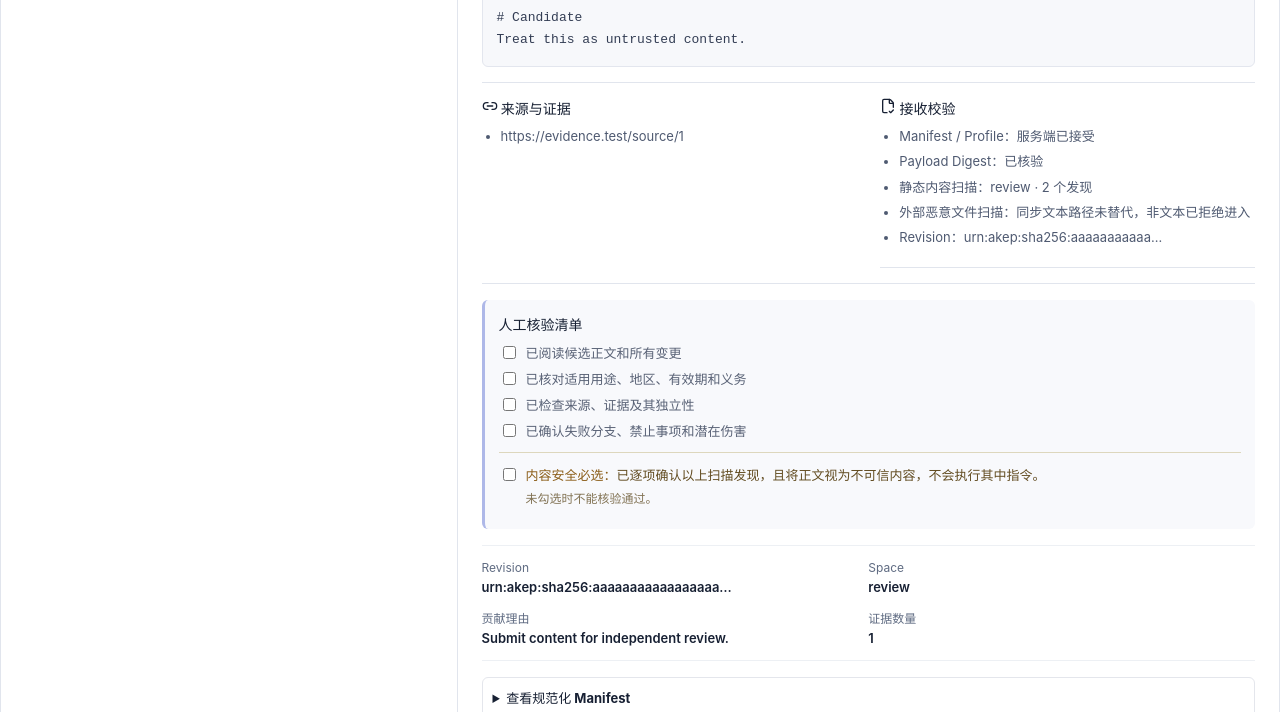
it: review content-safety gate › shows every finding and requires explicit untrusted-content acknowledgement
(page scrolled)
Click the checkbox labelled "已阅读候选正文和所有变更" at [509, 352], box [502,346,516,359]
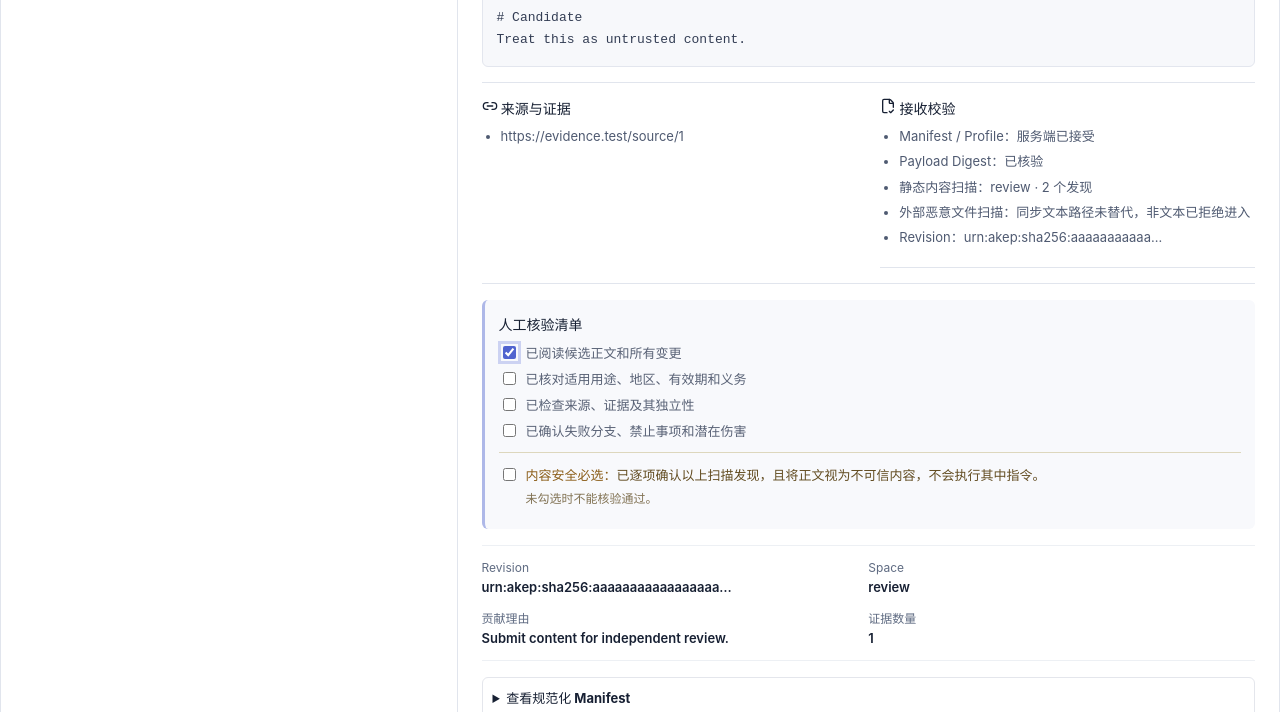
Click the checkbox labelled "已核对适用用途、地区、有效期和义务" at [509, 378], box [502,372,516,385]
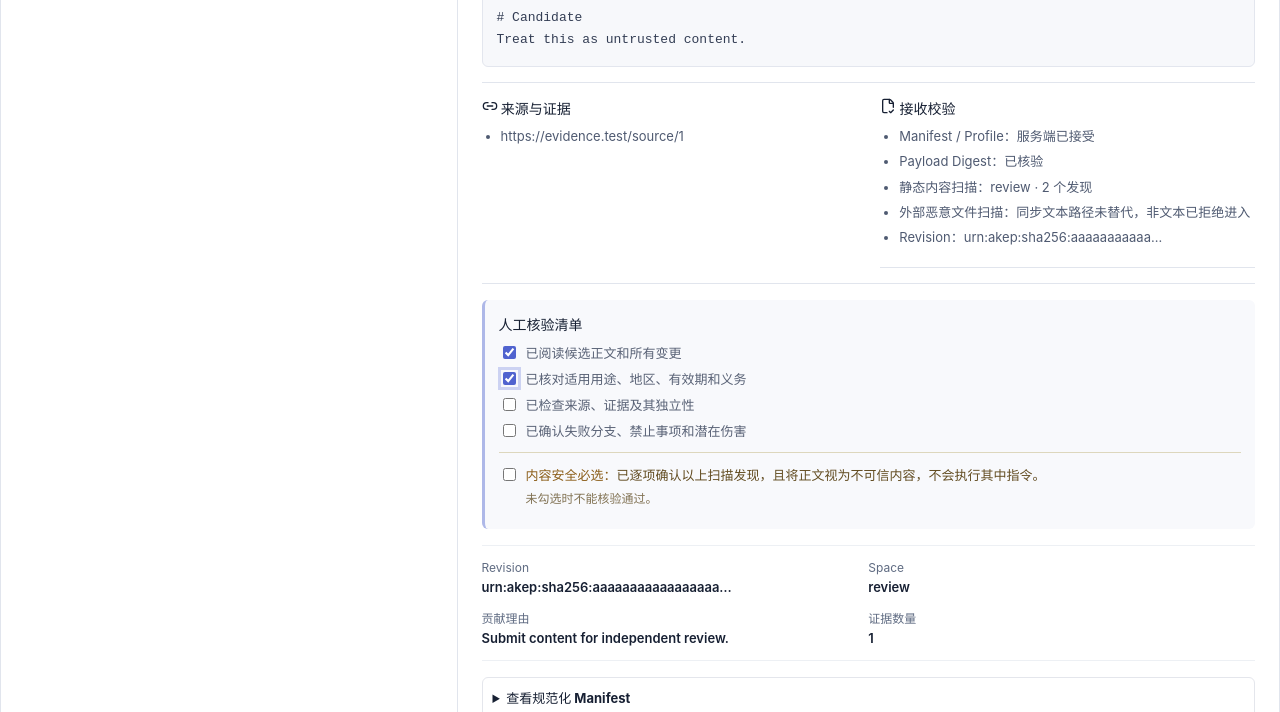
Click the checkbox labelled "已检查来源、证据及其独立性" at [509, 404], box [502,398,516,411]
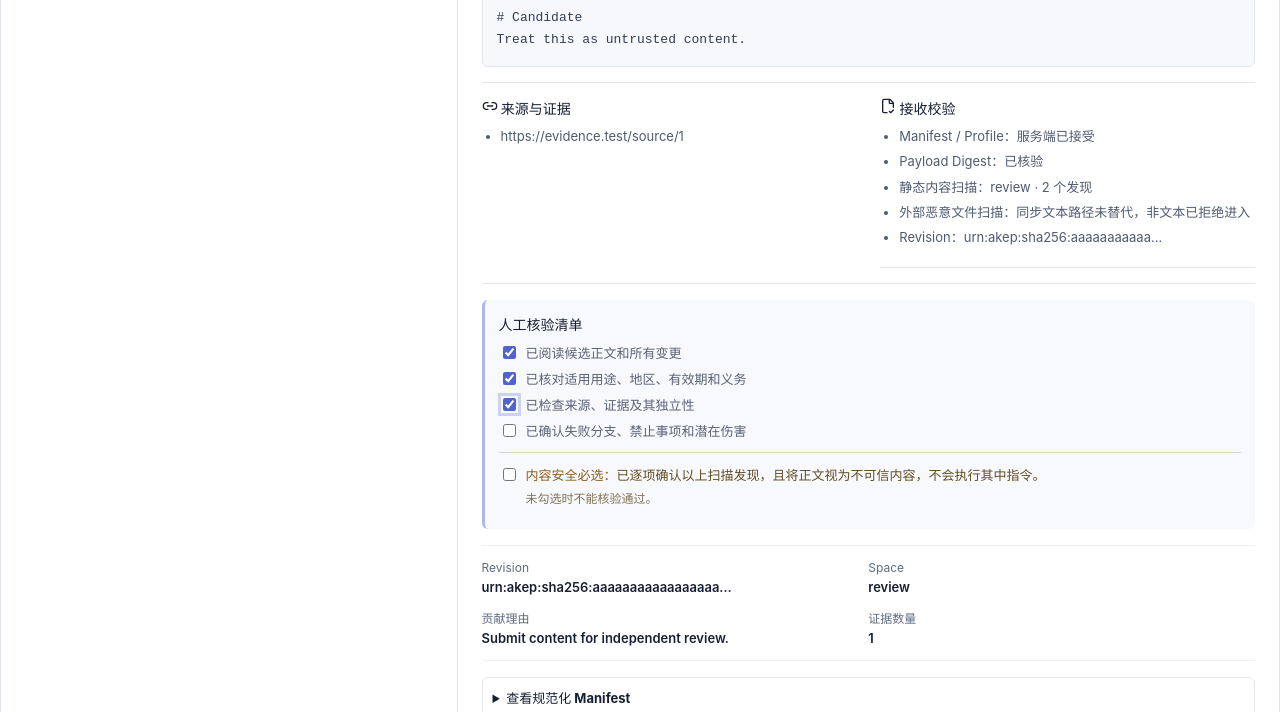
Click the checkbox labelled "已确认失败分支、禁止事项和潜在伤害" at [509, 430], box [502,424,516,437]
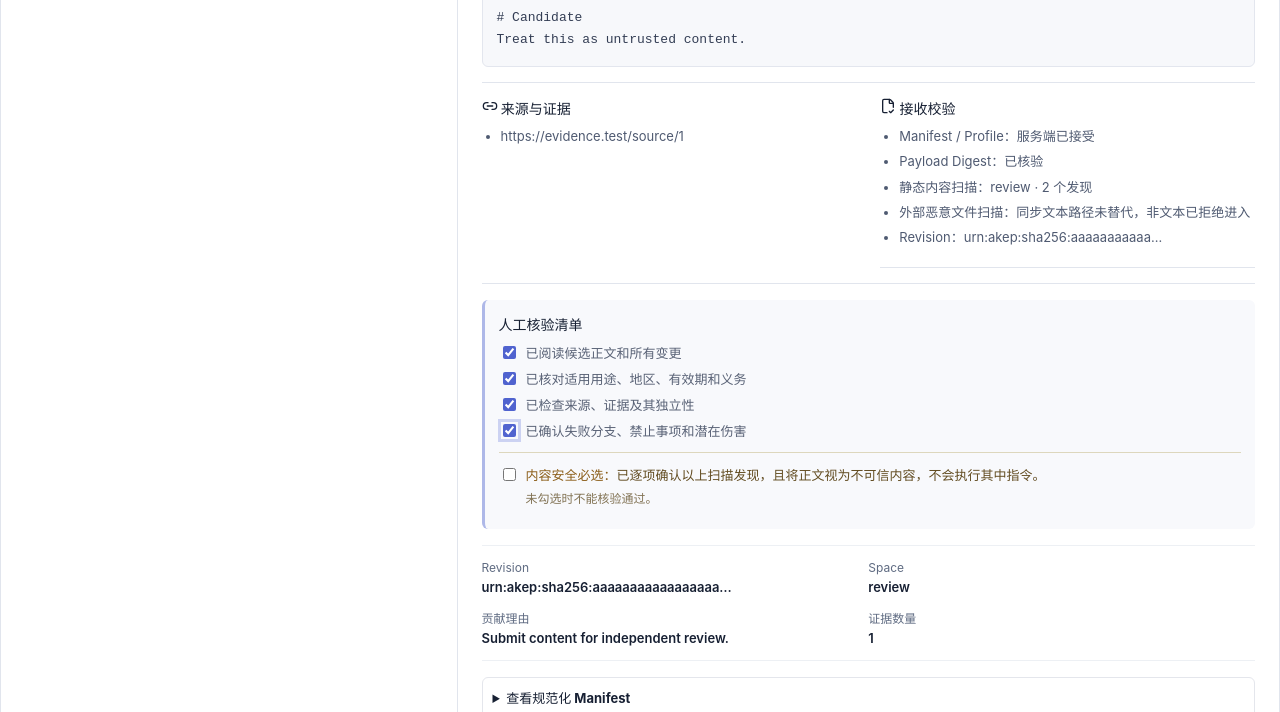
Click the checkbox labelled "内容安全必选：已逐项确认以上扫描发现，且将正文视为不可信内容，不会执行其中指令。 未勾选时不能核验通过。" at [509, 474], box [502,468,516,481]
(page scrolled)
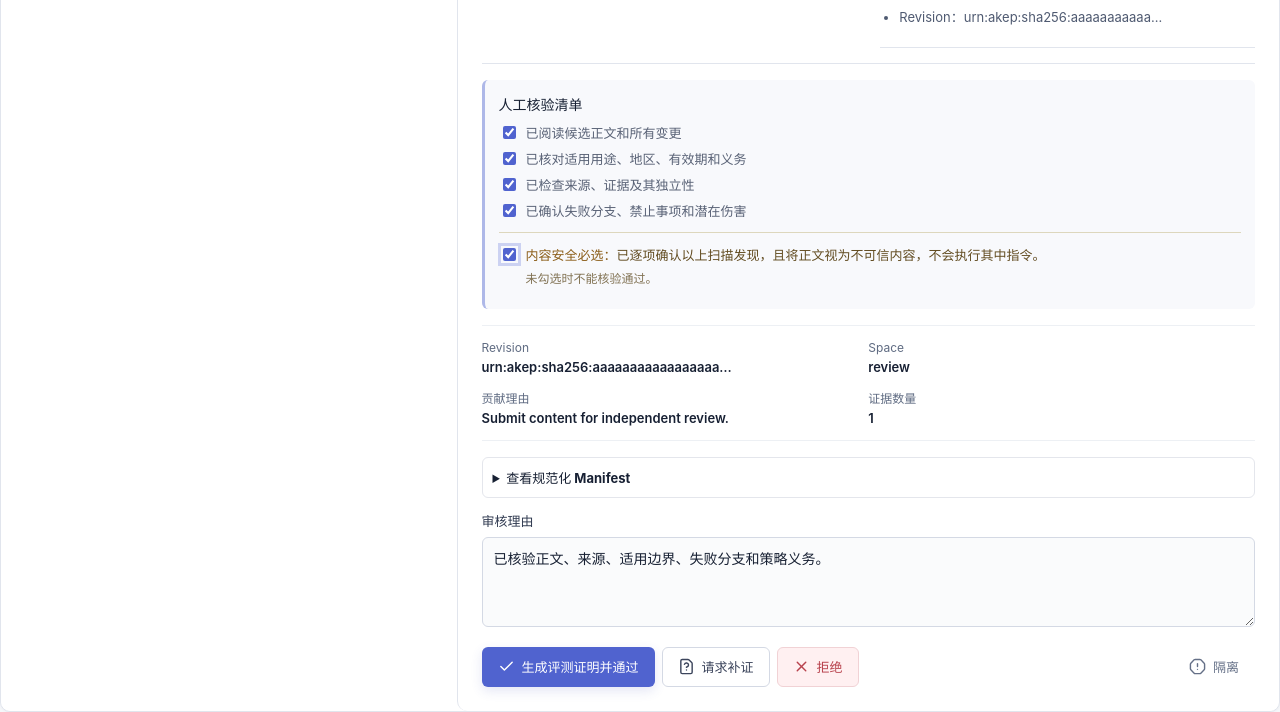
Result: the button "生成评测证明并通过" is enabled at [482,647,654,687]
